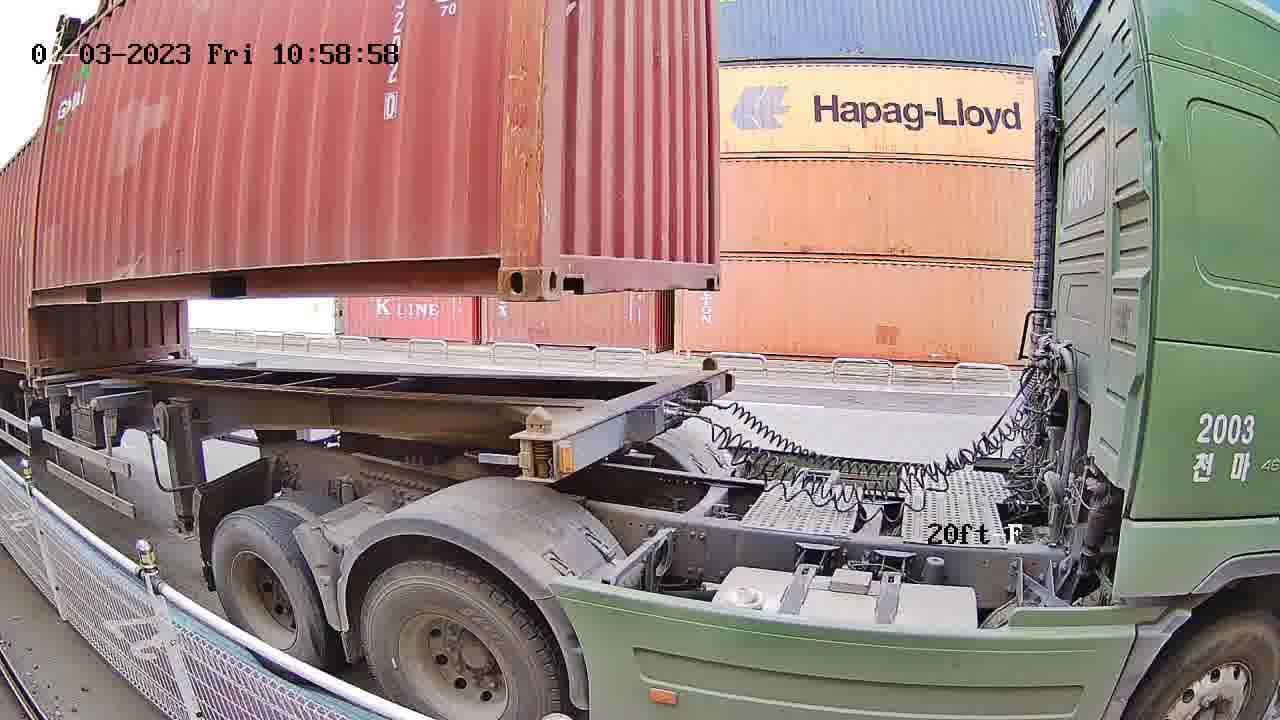Chassis: (515, 368, 728, 479)
Cone: (521, 405, 553, 480), (699, 353, 718, 371)
Hole_L: (540, 231, 588, 301)
Hole_R: (464, 228, 535, 300), (699, 255, 722, 290)
Tire: (362, 562, 550, 718), (211, 514, 323, 675)
